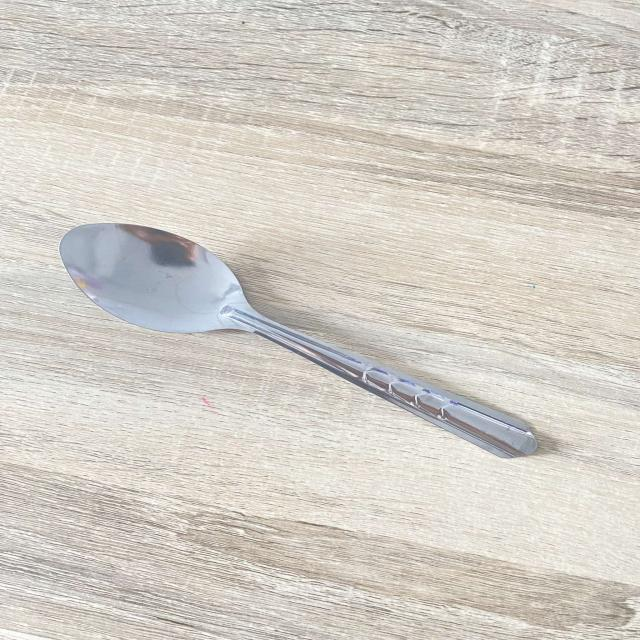spoon: (51, 210, 568, 462)
